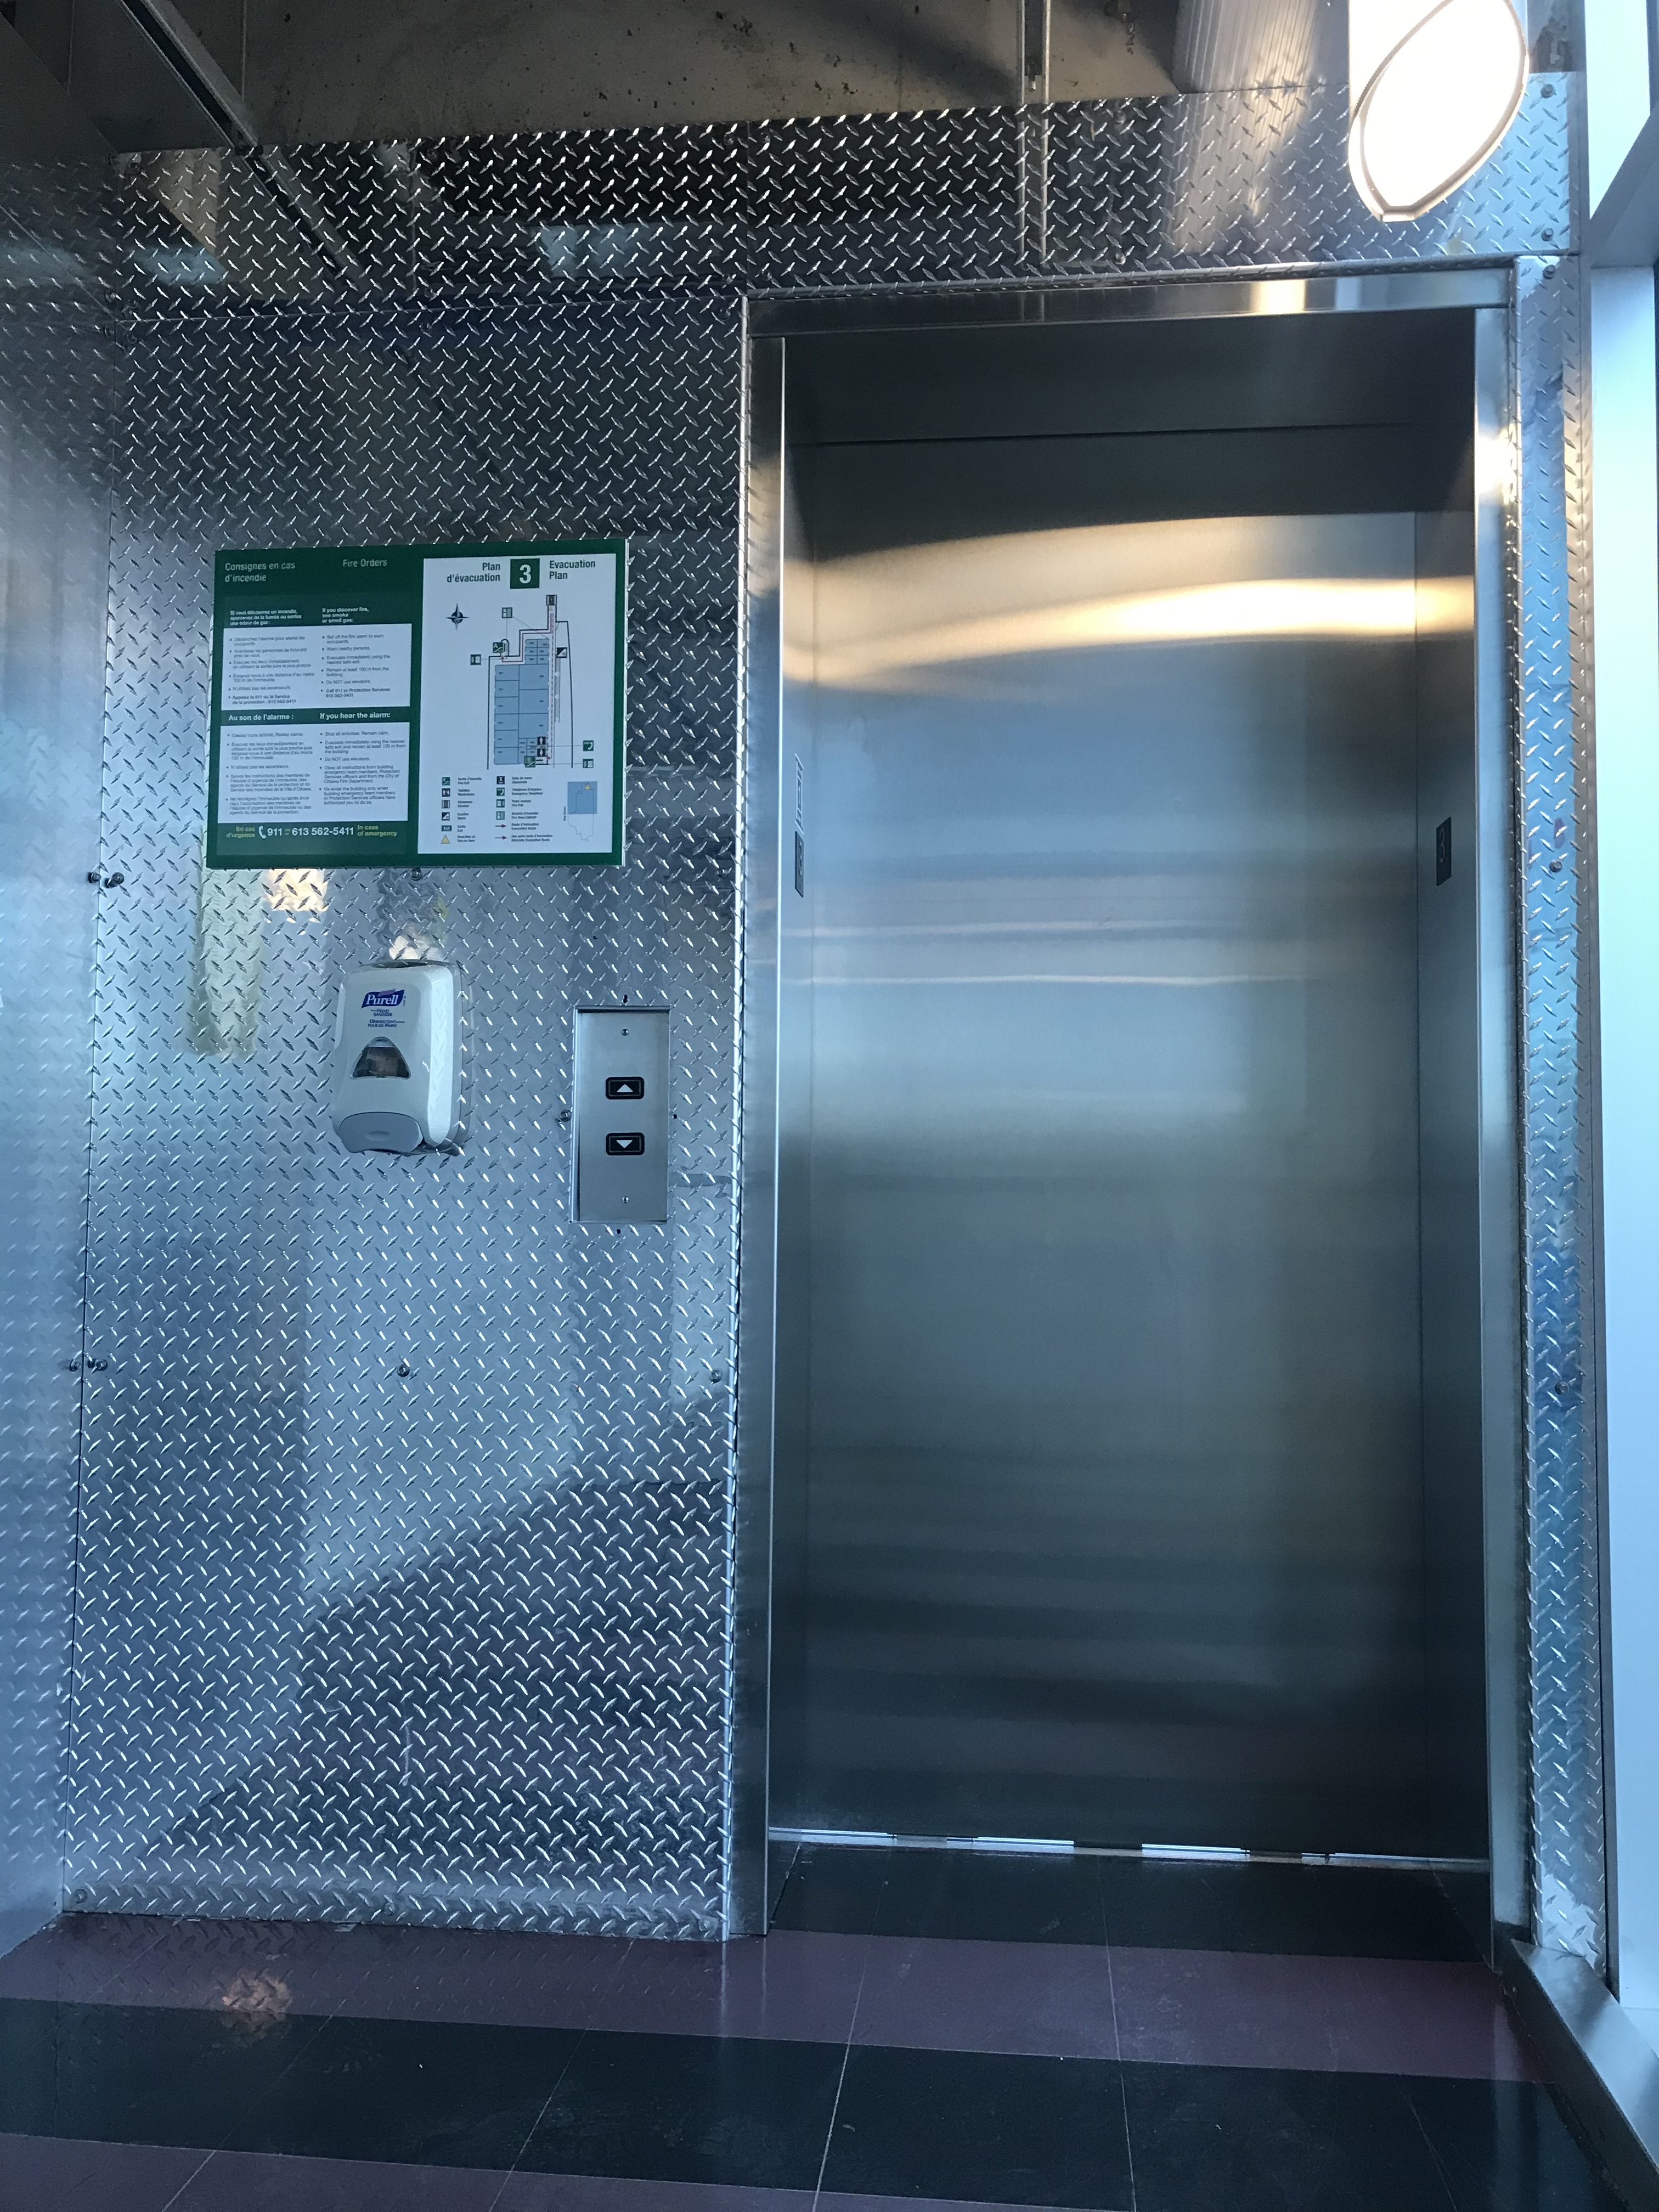door: (742, 266, 1525, 1977)
sign: (207, 543, 626, 867)
